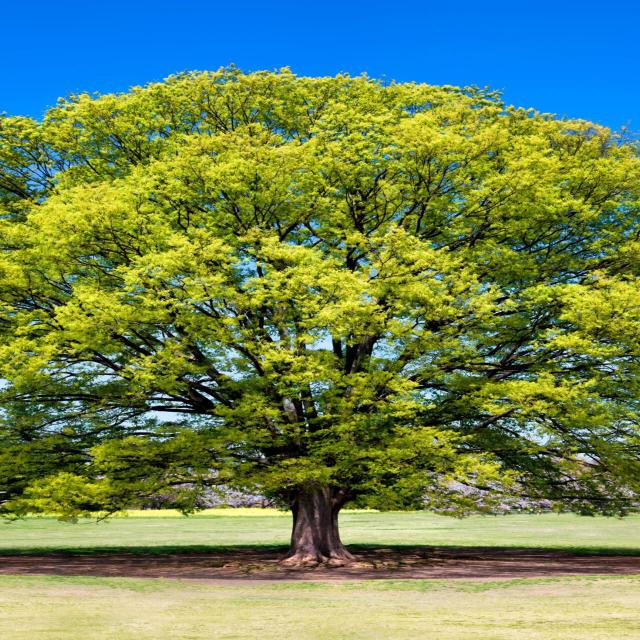Tree: (1, 62, 640, 563)
